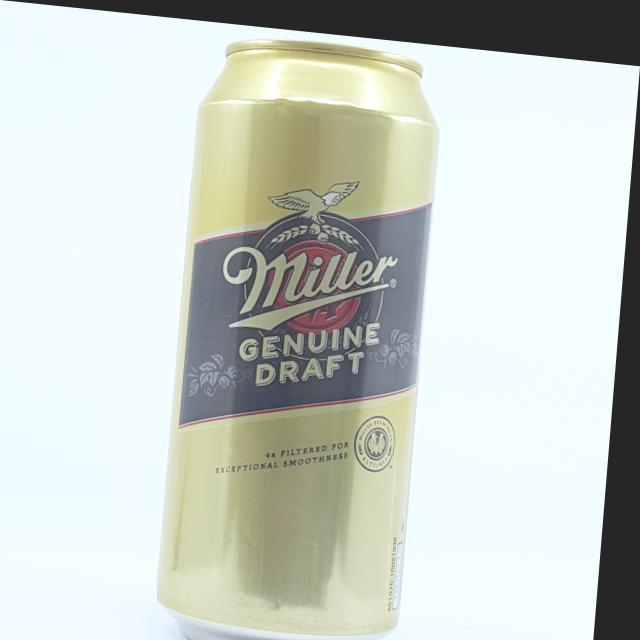beer-can: (162, 24, 446, 640)
